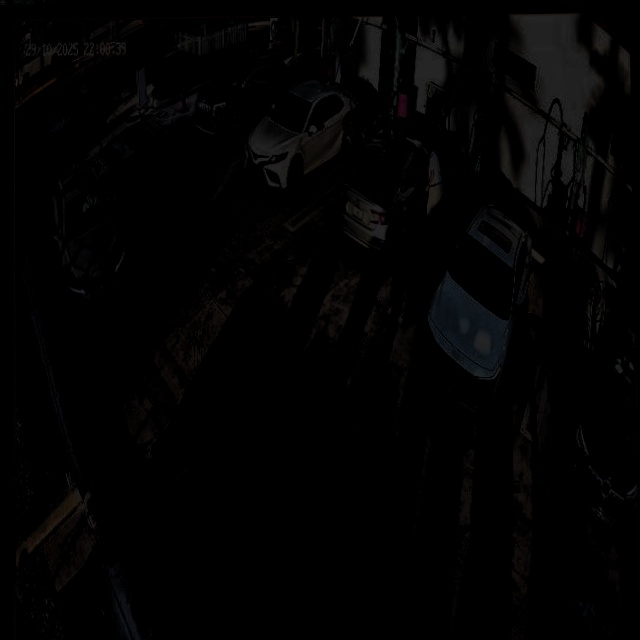Car: (421, 206, 534, 415), (336, 128, 449, 255), (247, 81, 358, 185)
